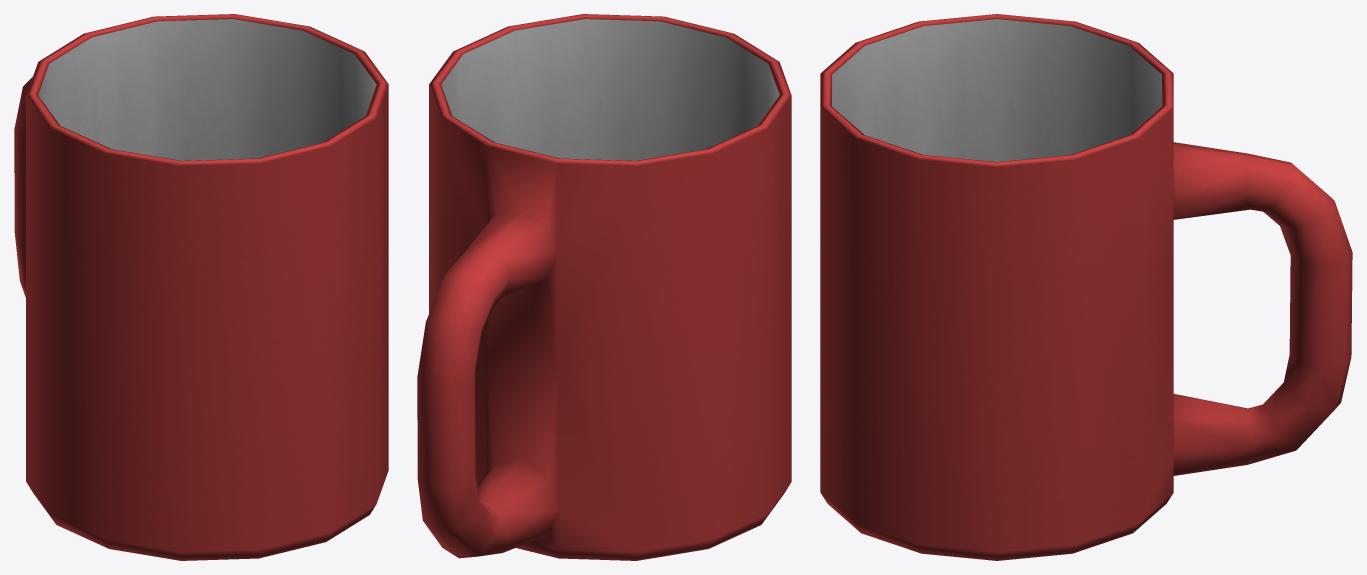
Rendered from mok.fbx.
The picture shows the model from 3 angles, left to right: view 1: azimuth 30°, elevation 25°; view 2: azimuth 150°, elevation 25°; view 3: azimuth 270°, elevation 25°; orthographic projection.
Parts seen in each view (by area): view 1: mok; view 2: mok; view 3: mok.
Boxes of the visible parts, x1,y1,x2,y2 form: mok: (14, 14, 388, 560); mok: (417, 14, 791, 560); mok: (820, 14, 1352, 560).
Bounding box in the file's own units: 0.1252 × 0.1552 × 0.1838.
